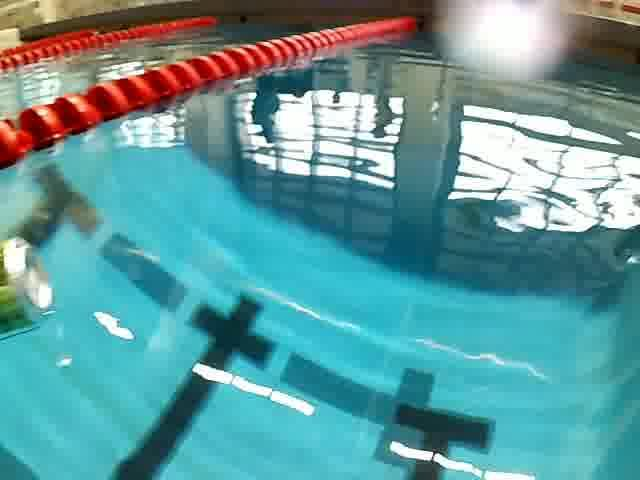Can: (0, 231, 60, 350)
